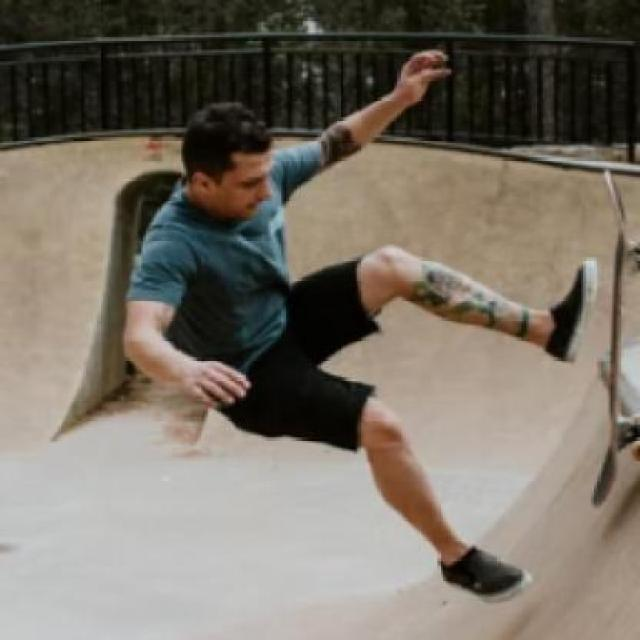fall: (129, 48, 600, 603)
